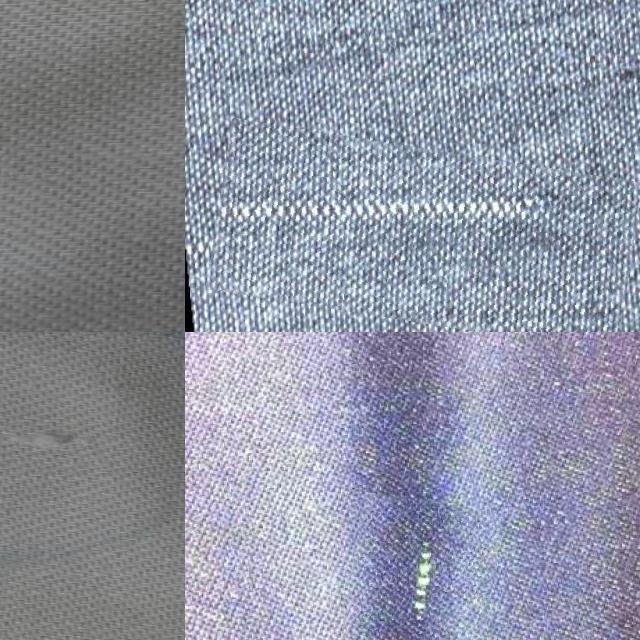stains: (212, 132, 638, 332), (340, 496, 496, 640)
